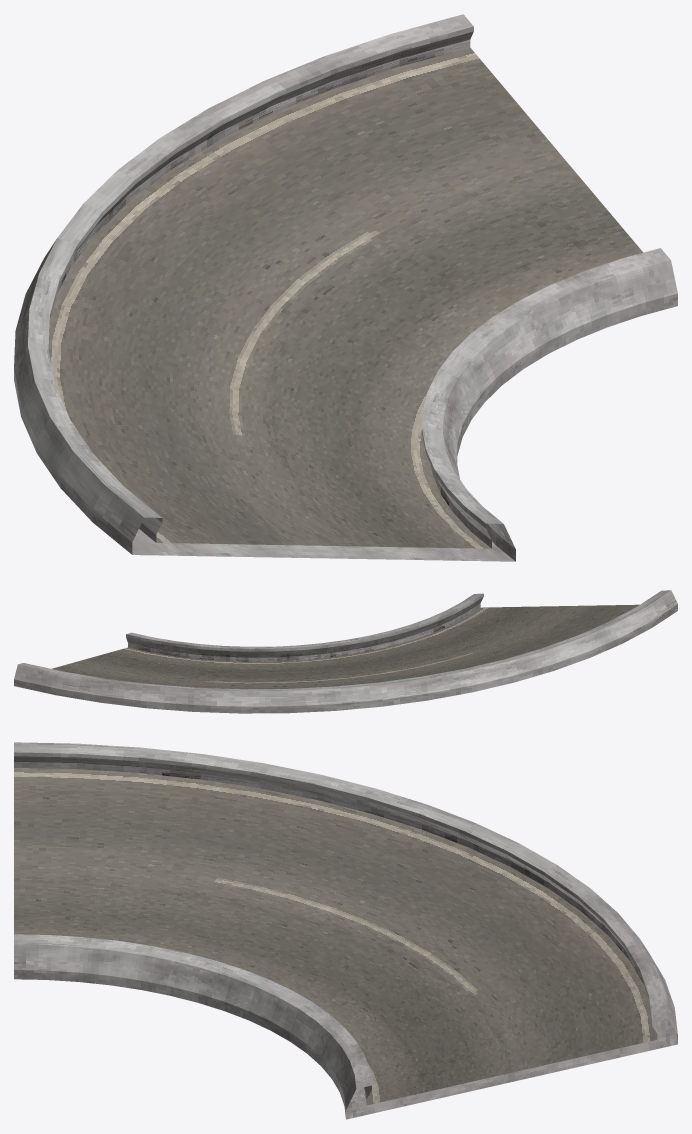
Rendered from turn-right2x2.glb.
The picture shows the model from 3 angles, top to bottom: view 1: azimuth 30°, elevation 25°; view 2: azimuth 150°, elevation 25°; view 3: azimuth 270°, elevation 25°; orthographic projection. The views are drawn at different scales.
Visible parts, largest first — view 1: road-Turn-HalfBankedRight-HalfBankedRight-Even-Right-Size2; view 2: road-Turn-HalfBankedRight-HalfBankedRight-Even-Right-Size2; view 3: road-Turn-HalfBankedRight-HalfBankedRight-Even-Right-Size2.
Part boxes in pixels (box(x1,y1,x2,y2)): road-Turn-HalfBankedRight-HalfBankedRight-Even-Right-Size2: box(14, 14, 677, 561); road-Turn-HalfBankedRight-HalfBankedRight-Even-Right-Size2: box(14, 590, 677, 713); road-Turn-HalfBankedRight-HalfBankedRight-Even-Right-Size2: box(14, 742, 677, 1119).
Bounding box in the file's own units: 2 × 0.3359 × 2.
2 materials, 2 textured.
